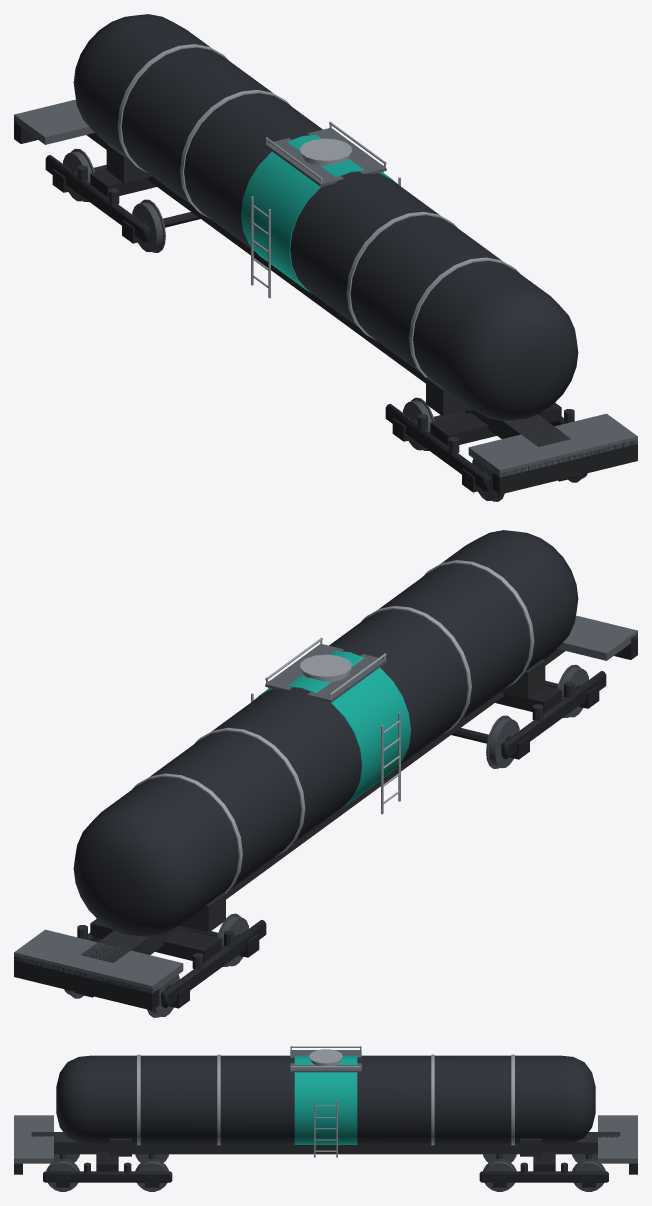
File: wagon_tank.glb
3 views of the same model, one above another, from view 1: azimuth 30°, elevation 25°; view 2: azimuth 150°, elevation 25°; view 3: azimuth 270°, elevation 25° (orthographic). The views are drawn at different scales.
Visible parts, largest first — view 1: Tank_Body, Wagon_Frame, Wagon_Bogie_Front, Wagon_Bogie_Rear; view 2: Tank_Body, Wagon_Frame, Wagon_Bogie_Rear, Wagon_Bogie_Front; view 3: Tank_Body, Wagon_Frame, Wagon_Bogie_Front, Wagon_Bogie_Rear.
Part boxes in pixels (box(x1,y1,x2,y2)): Tank_Body: box(73, 14, 578, 420); Wagon_Frame: box(14, 99, 637, 494); Wagon_Bogie_Front: box(385, 397, 587, 501); Wagon_Bogie_Rear: box(45, 148, 200, 252); Tank_Body: box(73, 530, 578, 936); Wagon_Frame: box(14, 615, 637, 1010); Wagon_Bogie_Rear: box(64, 913, 266, 1017); Wagon_Bogie_Front: box(451, 664, 606, 768); Tank_Body: box(56, 1046, 595, 1157); Wagon_Frame: box(14, 1115, 637, 1174); Wagon_Bogie_Front: box(43, 1152, 172, 1191); Wagon_Bogie_Rear: box(479, 1152, 608, 1191).
Size of the model in its own units: 2.3 by 3.03 by 14.
